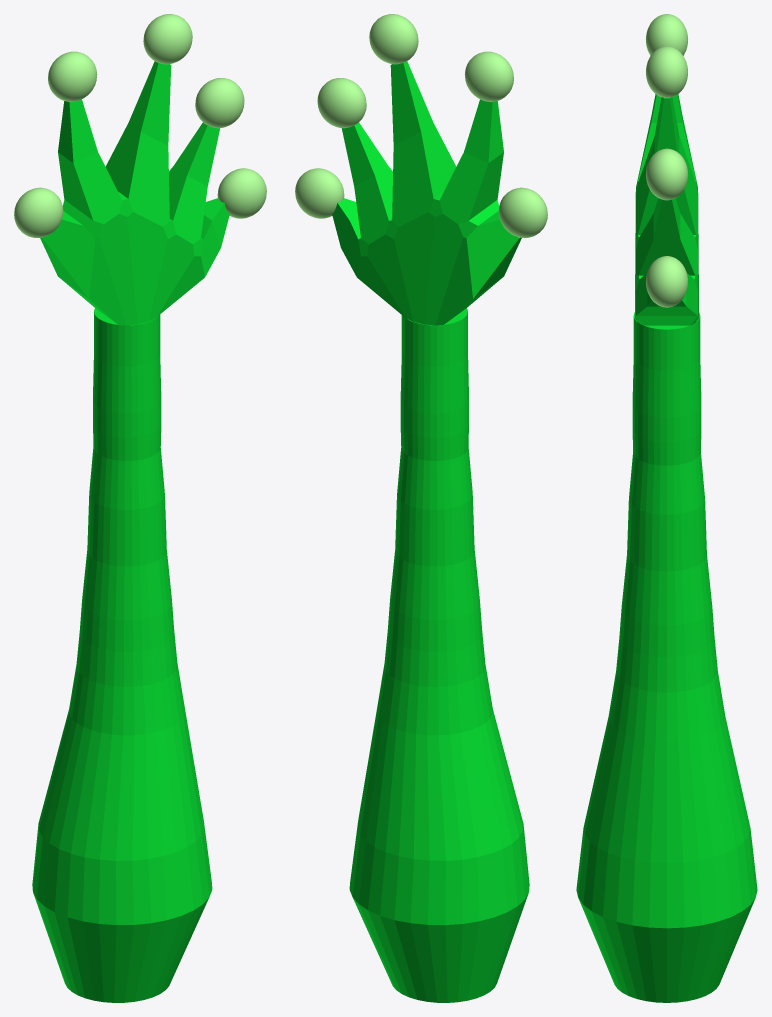
The model's file is Bras 02.fbx.
3 renders of one model, left to right at view 1: azimuth 30°, elevation 25°; view 2: azimuth 150°, elevation 25°; view 3: azimuth 270°, elevation 25°, orthographic.
Visible parts, largest first — view 1: Cylinder.001, Sphere.008, Sphere.007, Sphere.010, Sphere.009, Sphere.006; view 2: Cylinder.001, Sphere.008, Sphere.007, Sphere.010, Sphere.009, Sphere.006; view 3: Cylinder.001, Sphere.006, Sphere.008, Sphere.007, Sphere.009.
Part boxes in pixels (x1,y1,x2,y2): Cylinder.001: [32, 61, 229, 1002]; Sphere.008: [143, 14, 192, 64]; Sphere.007: [195, 78, 244, 128]; Sphere.010: [14, 187, 63, 237]; Sphere.009: [48, 51, 97, 101]; Sphere.006: [217, 168, 266, 218]; Cylinder.001: [332, 61, 529, 1002]; Sphere.008: [369, 14, 418, 64]; Sphere.007: [317, 78, 366, 128]; Sphere.010: [498, 187, 547, 237]; Sphere.009: [464, 51, 513, 101]; Sphere.006: [295, 168, 344, 218]; Cylinder.001: [576, 94, 757, 1002]; Sphere.006: [646, 256, 687, 307]; Sphere.008: [646, 46, 687, 97]; Sphere.007: [646, 148, 687, 200]; Sphere.009: [646, 14, 687, 55].
Bounding box in the file's own units: 41.57 × 152 × 26.18.
